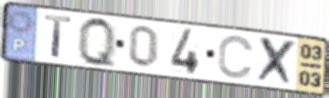0: (126, 25, 162, 70)
4: (168, 27, 202, 77)
C: (216, 33, 256, 80)
Q: (76, 15, 118, 71)
T: (43, 13, 74, 61)
X: (254, 35, 299, 89)
